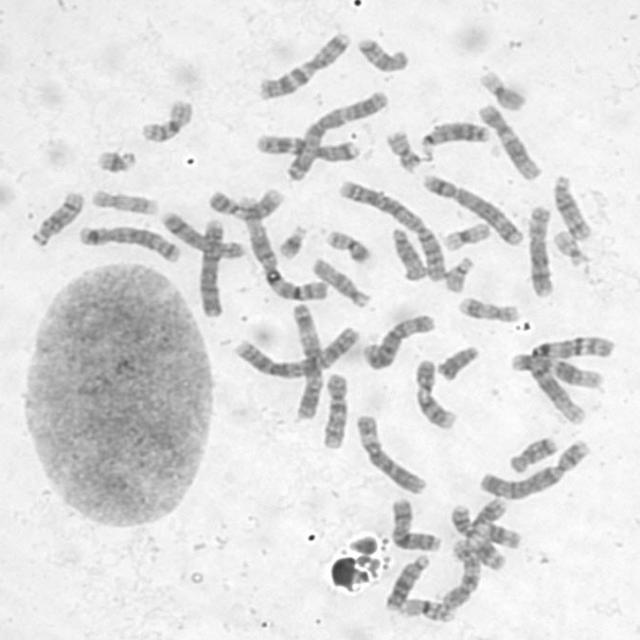A1: (237, 189, 330, 304), (526, 330, 616, 426)
A2: (333, 176, 450, 283), (231, 321, 364, 379)
A3: (282, 86, 390, 182), (286, 300, 326, 420)
B4: (476, 435, 593, 502), (195, 214, 227, 318)
B5: (418, 169, 528, 248), (74, 220, 184, 264)
C10: (437, 534, 483, 611), (316, 368, 351, 451)
C11: (448, 498, 509, 572), (466, 494, 524, 550)
C12: (474, 99, 544, 181), (507, 348, 607, 392)
C6: (350, 410, 430, 494), (358, 310, 436, 370)
C7: (253, 26, 354, 101), (252, 128, 362, 164)
C8: (157, 206, 249, 260), (522, 200, 556, 300)
C9: (410, 354, 459, 430), (204, 183, 287, 221)
D13: (382, 550, 432, 612), (416, 116, 493, 153)
D14: (26, 185, 86, 248), (548, 170, 595, 242)
D15: (308, 253, 374, 308), (386, 223, 430, 281)
E16: (136, 94, 196, 144), (398, 594, 458, 624)
E17: (87, 184, 162, 217), (454, 292, 522, 323)
E18: (353, 32, 412, 74), (504, 430, 560, 474)
F19: (474, 65, 530, 112), (440, 217, 492, 252)
F20: (321, 224, 374, 264), (383, 124, 423, 172)
G21: (92, 144, 139, 175), (274, 220, 308, 261)
G22: (549, 226, 590, 268), (440, 252, 477, 294)
X: (386, 493, 443, 552)
Y: (433, 341, 482, 382)
